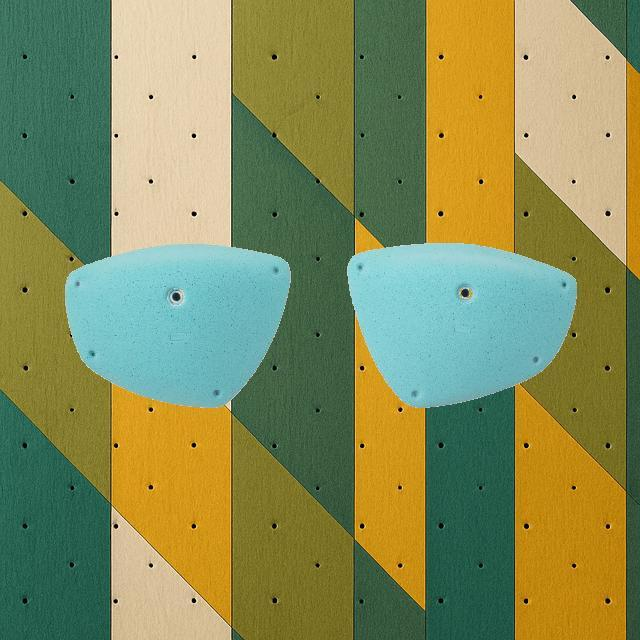Sloper: (347, 242, 578, 408), (64, 242, 290, 406)
